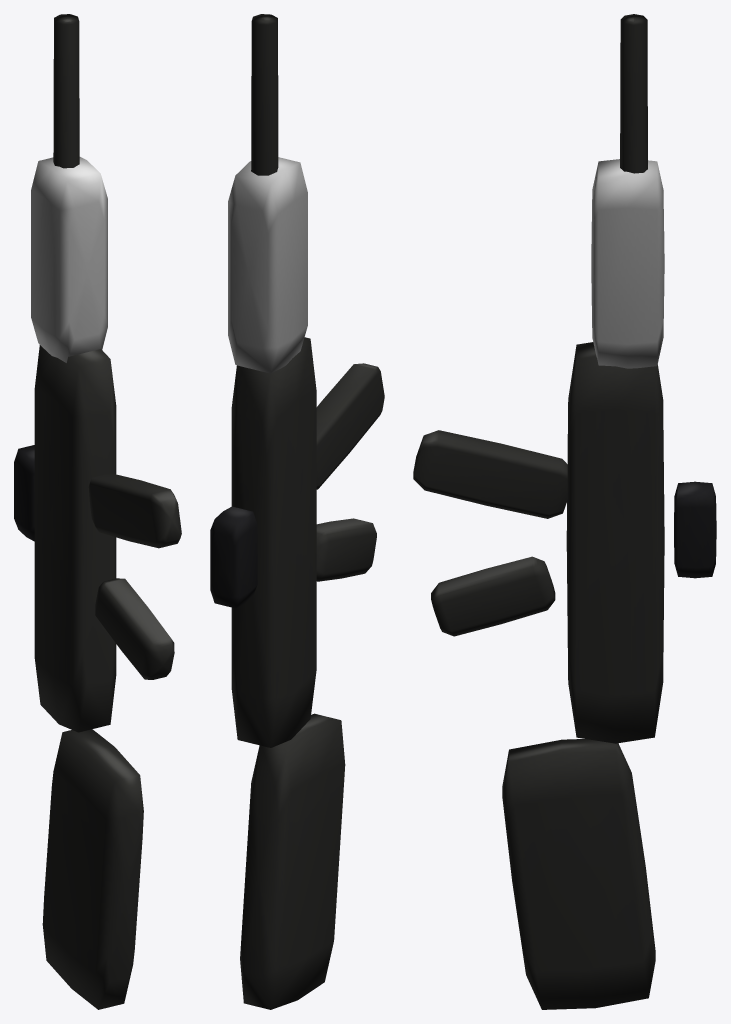
Rendered from fusil-assaut.glb.
3 views of the same model, side by side, from view 1: azimuth 30°, elevation 25°; view 2: azimuth 150°, elevation 25°; view 3: azimuth 270°, elevation 25° (orthographic). The views are drawn at different scales.
Visible parts, largest first — view 1: fusil-assaut; view 2: fusil-assaut; view 3: fusil-assaut.
Part boxes in pixels (<box>): fusil-assaut: <box>14,14,181,1009</box>; fusil-assaut: <box>210,14,384,1009</box>; fusil-assaut: <box>413,14,716,1009</box>.
Bounding box in the file's own units: 0.0484 × 0.8868 × 0.2478.
Materials: 1 (1 with a texture image).
